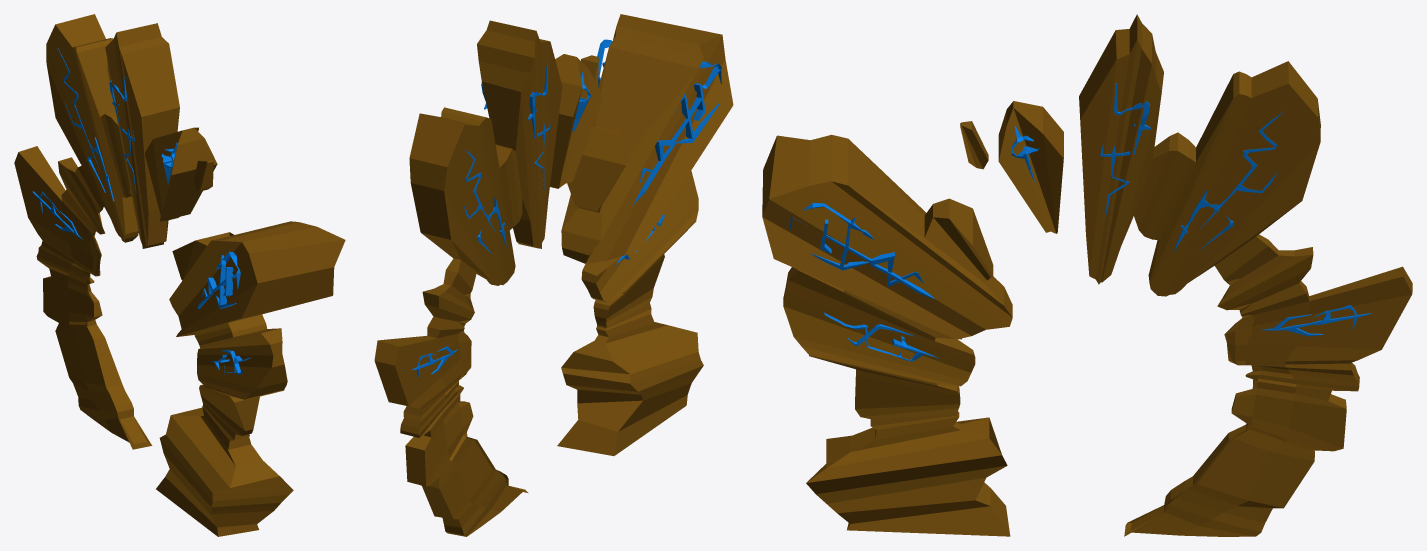
The model's file is portal 3.fbx.
3 renders of one model, left to right at view 1: azimuth 30°, elevation 25°; view 2: azimuth 150°, elevation 25°; view 3: azimuth 270°, elevation 25°, orthographic. The views are drawn at different scales.
Visible parts, largest first — view 1: Tor 1, Tor4, Tor 2, Runen, Tor 3; view 2: Tor4, Tor 1, Runen, Tor 2; view 3: Tor 1, Tor4, Runen, Tor 2, Tor 3.
Part boxes in pixels (box(x1,y1,x2,y2)): Tor 1: box(14, 14, 179, 449); Tor4: box(156, 221, 345, 536); Tor 2: box(144, 127, 217, 221); Runen: box(32, 47, 251, 374); Tor 3: box(193, 157, 213, 191); Tor4: box(557, 14, 733, 455); Tor 1: box(374, 20, 562, 536); Runen: box(412, 39, 721, 380); Tor 2: box(550, 54, 603, 188); Tor 1: box(1079, 14, 1412, 536); Tor4: box(762, 134, 1012, 536); Runen: box(789, 83, 1371, 361); Tor 2: box(998, 101, 1063, 233); Tor 3: box(960, 121, 988, 169).
Size of the model in its own units: 2.57 by 9.84 by 11.47.
